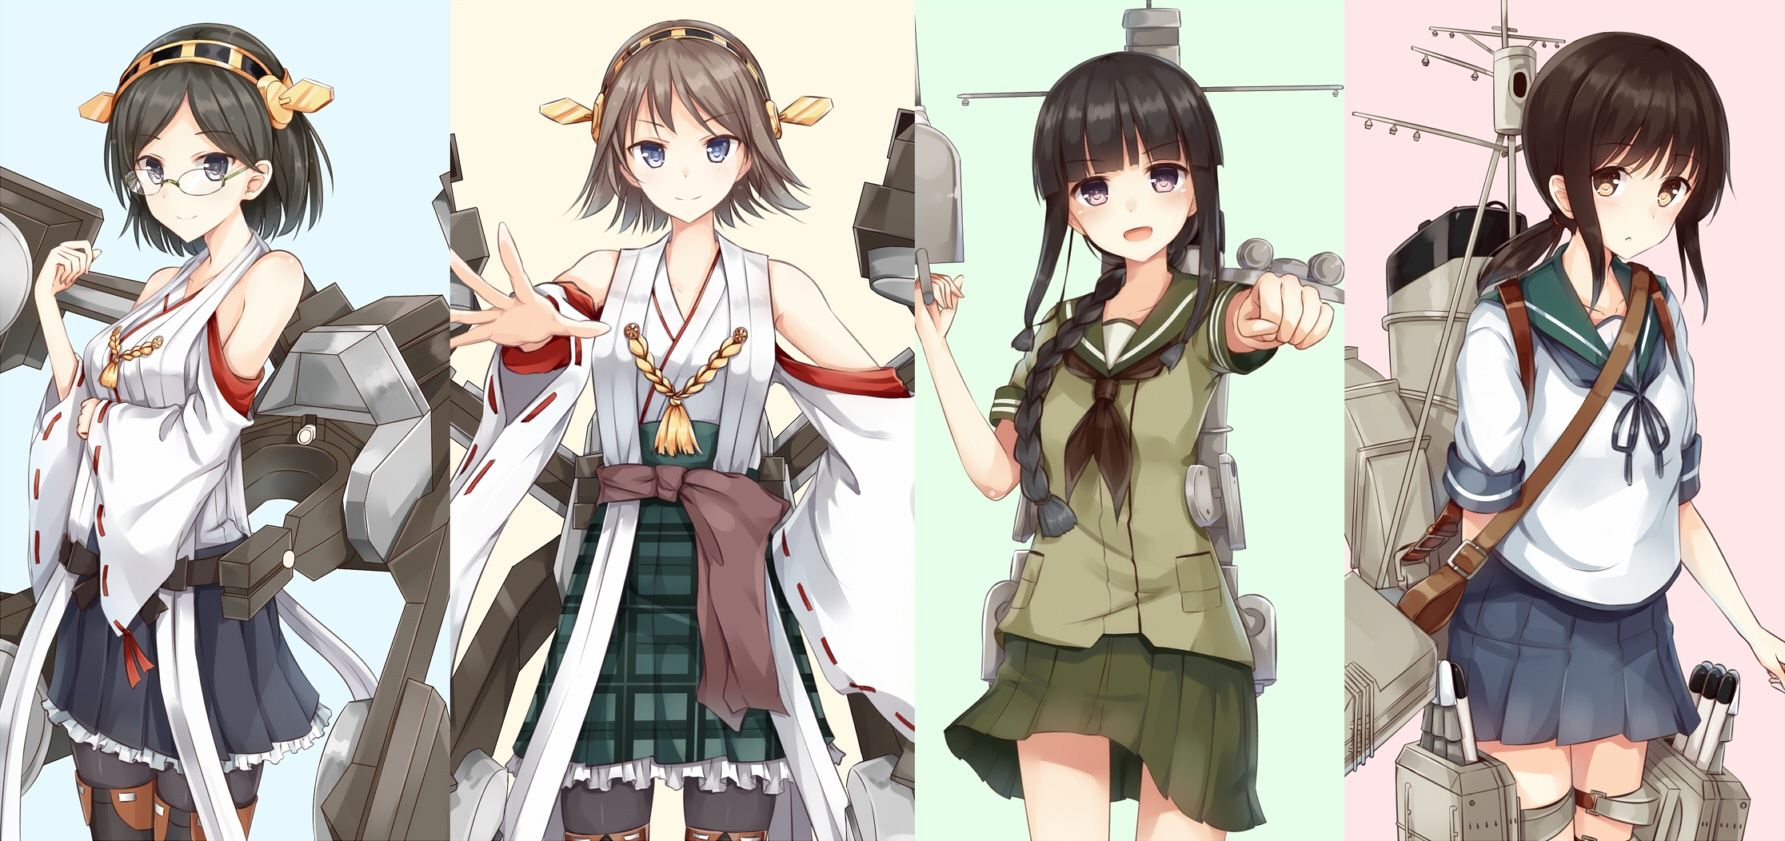纸片人正脸: (90, 26, 336, 257), (561, 15, 812, 237), (1514, 32, 1730, 275), (1029, 46, 1226, 271)
